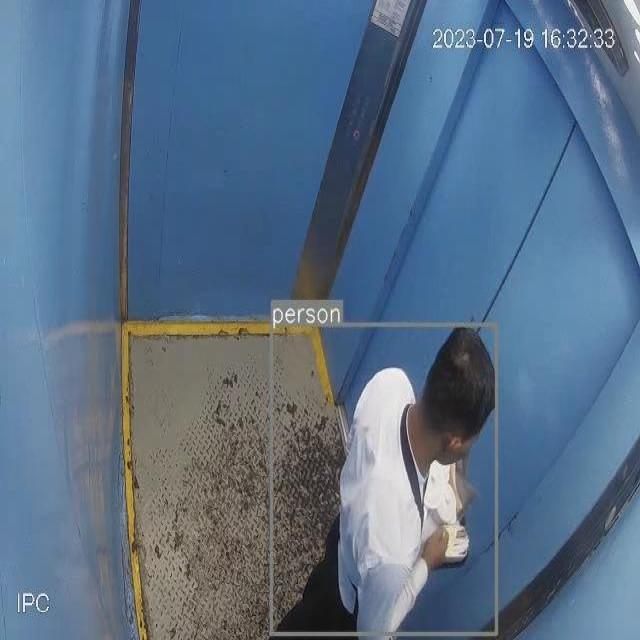person: (273, 324, 495, 633)
